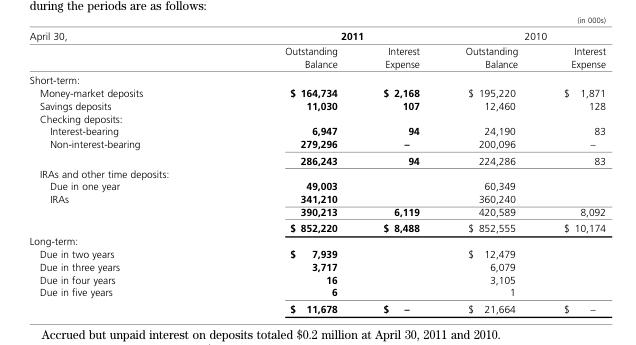table: (28, 29, 605, 314)
table column: (28, 29, 213, 314), (213, 29, 359, 314), (441, 29, 540, 314), (359, 29, 441, 314), (540, 29, 605, 314)
table column header: (28, 29, 605, 71)
table projected row header: (28, 71, 605, 86), (28, 111, 605, 124), (28, 166, 605, 179), (28, 234, 605, 246)
table row: (28, 42, 605, 71), (28, 71, 605, 86), (28, 151, 605, 166), (28, 204, 605, 219), (28, 219, 605, 234), (28, 299, 605, 314), (28, 137, 605, 151), (28, 285, 605, 299), (28, 29, 605, 42), (28, 98, 605, 111), (28, 111, 605, 124), (28, 124, 605, 137), (28, 166, 605, 179), (28, 179, 605, 192), (28, 246, 605, 259), (28, 259, 605, 272), (28, 272, 605, 285), (28, 86, 605, 98), (28, 192, 605, 204), (28, 234, 605, 246)
table spanning cell: (28, 29, 213, 71), (213, 29, 441, 42), (441, 29, 605, 42)
